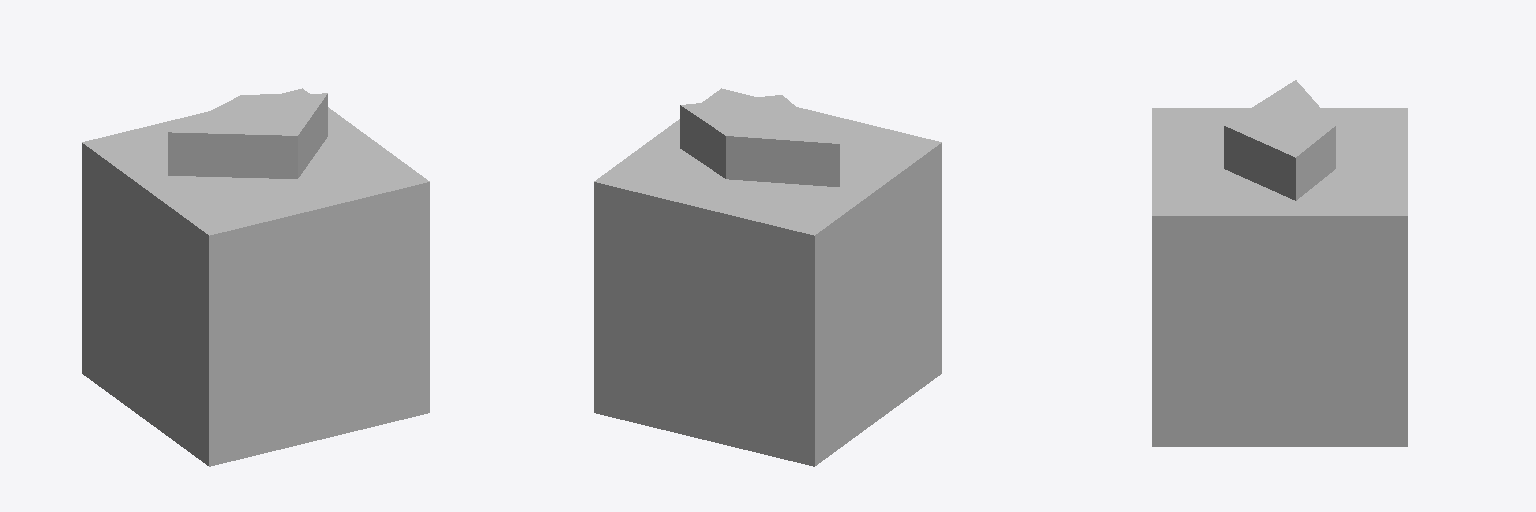
File: Diamond_cube_cap_preprocessed.obj
3 views of the same model, side by side, from view 1: azimuth 30°, elevation 25°; view 2: azimuth 150°, elevation 25°; view 3: azimuth 270°, elevation 25° (orthographic).
Size of the model in its own units: 0.08 by 0.095 by 0.08.